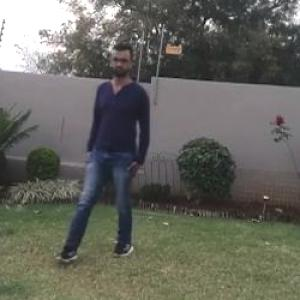follow: (92, 39, 168, 260)
